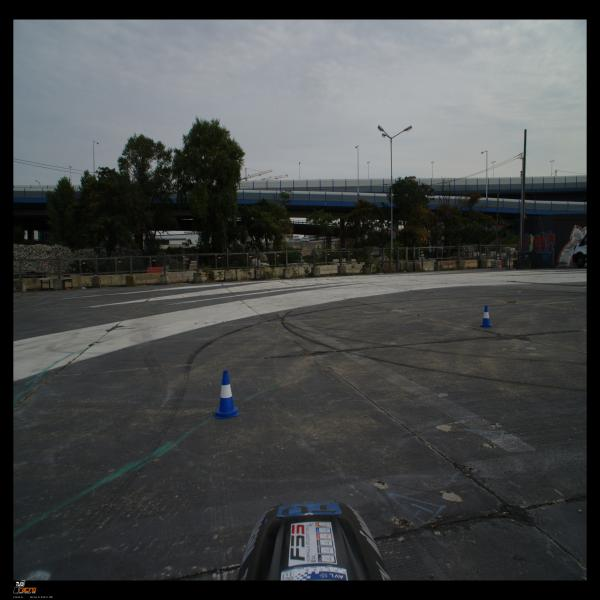blue_cone: (214, 370, 240, 419), (479, 305, 494, 328)
